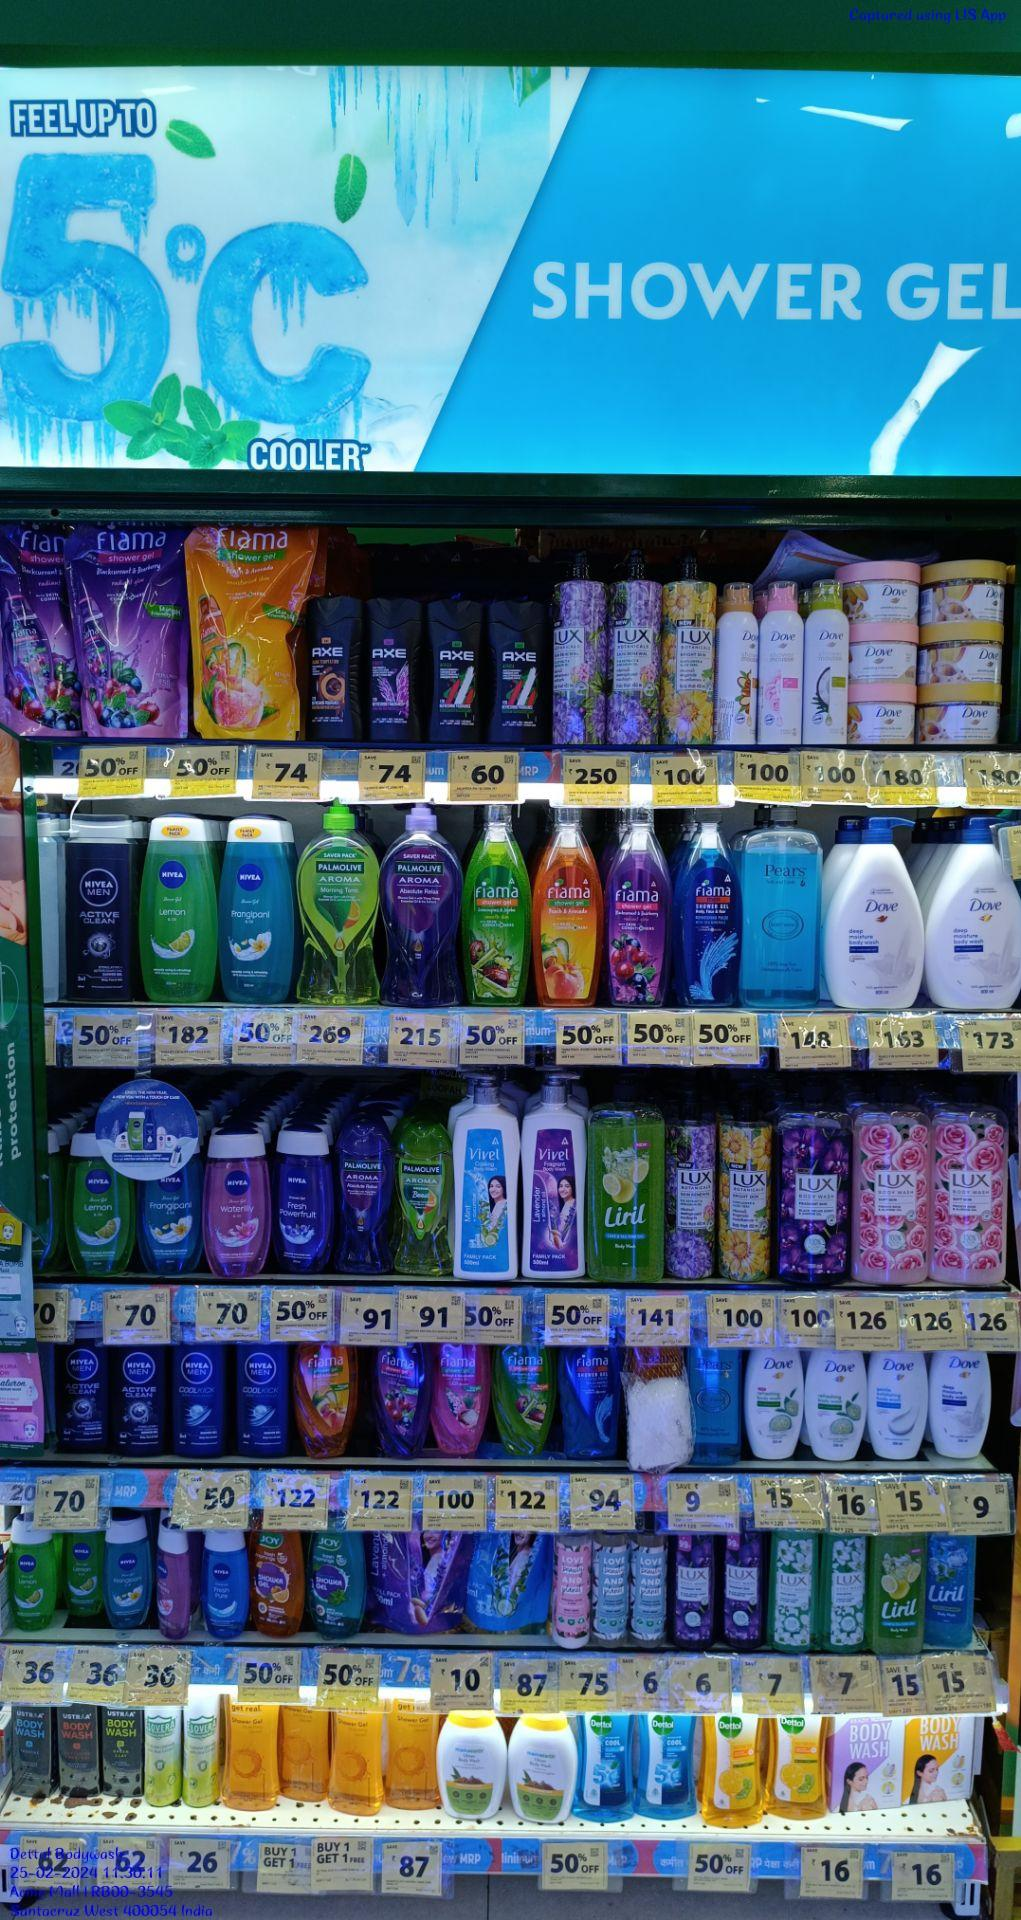Dettol_Bodywash_Cool: (577, 1713, 637, 1823), (640, 1714, 696, 1817)
Dettol_Bodywash_Refresh: (701, 1714, 764, 1826), (770, 1717, 828, 1820)
Dove_Deep_Moisture_Body_Wash_250ML: (931, 1352, 988, 1459)
Dove_Gentle_Exfoliating_Body_Wash_250ML: (874, 1349, 926, 1459)
Dove_Refreshing_Body_Wash_250ML: (808, 1347, 869, 1460), (744, 1343, 804, 1455)
Joy_Shower_Gel_Mandarin_and_Lemongrass_250ML: (257, 1533, 304, 1638)
Joy_Shower_Gel_Mint_and_Eucalyptus_250ML: (311, 1533, 362, 1638)
Liril_Cooling_Mint_Body_Wash_250ML: (928, 1534, 974, 1647)
Liril_Lime_and_Tea_Tree_Oil_Body_Wash_250ML: (874, 1534, 923, 1655)
Lux_Black_Orchid_Scent_and_Juniper_Oil_Body_Wash_245ML: (726, 1533, 767, 1647), (676, 1537, 715, 1648)
Lux_Body_Wash_Skin_Detox_Freesia_Scent_and_Alove_Vera_245ML: (773, 1530, 819, 1652), (822, 1534, 865, 1653)
Nivea_Shower_Gel_Frangipani_and_Oil_250ML: (221, 814, 292, 1003), (146, 1138, 201, 1279), (107, 1521, 152, 1627)
Nivea_Shower_Gel_Fresh_Powerfruit_250ML: (278, 1131, 330, 1274)
Nivea_Shower_Gel_Lemon_and_Oil_250ML: (141, 815, 220, 1002), (69, 1130, 122, 1274), (9, 1526, 58, 1633), (61, 1529, 102, 1624)
Nivea_Shower_Gel_Waterlily_and_Oil_250ML: (206, 1130, 273, 1276), (159, 1524, 196, 1641)
Palmolive_Aroma_Morning_Tonic_Shower_Gel_250ML: (397, 1124, 448, 1274)
Palmolive_Aroma_Relax_250ML: (339, 1117, 389, 1275)
